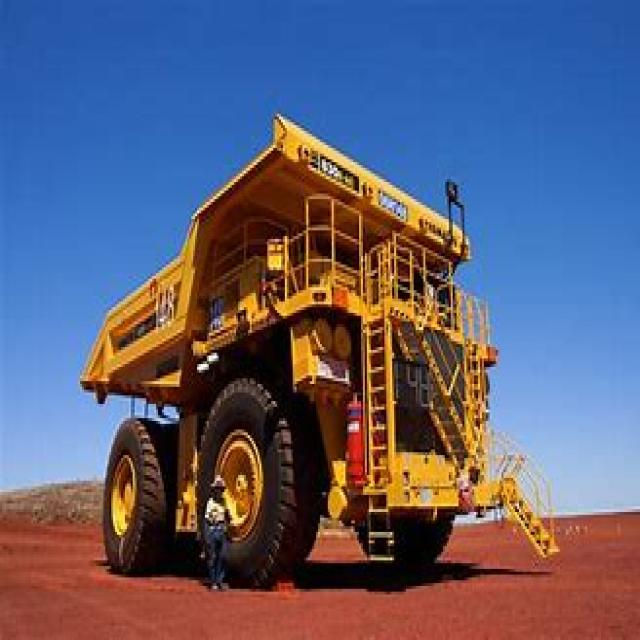dump_truck: (78, 102, 554, 578)
